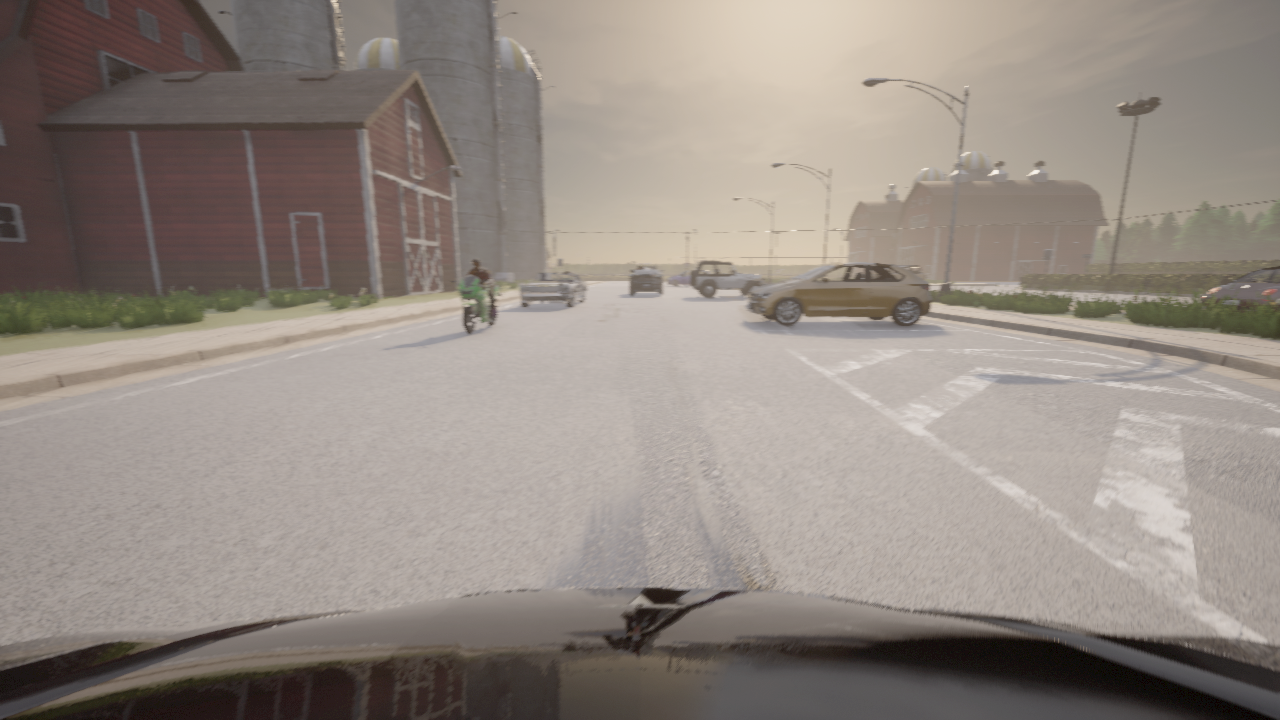cyclist: (0, 588, 1279, 719), (746, 262, 931, 325), (1201, 266, 1279, 312), (449, 275, 502, 334), (689, 260, 767, 297), (518, 271, 586, 307), (630, 266, 664, 295), (887, 264, 925, 280), (667, 270, 690, 285)
